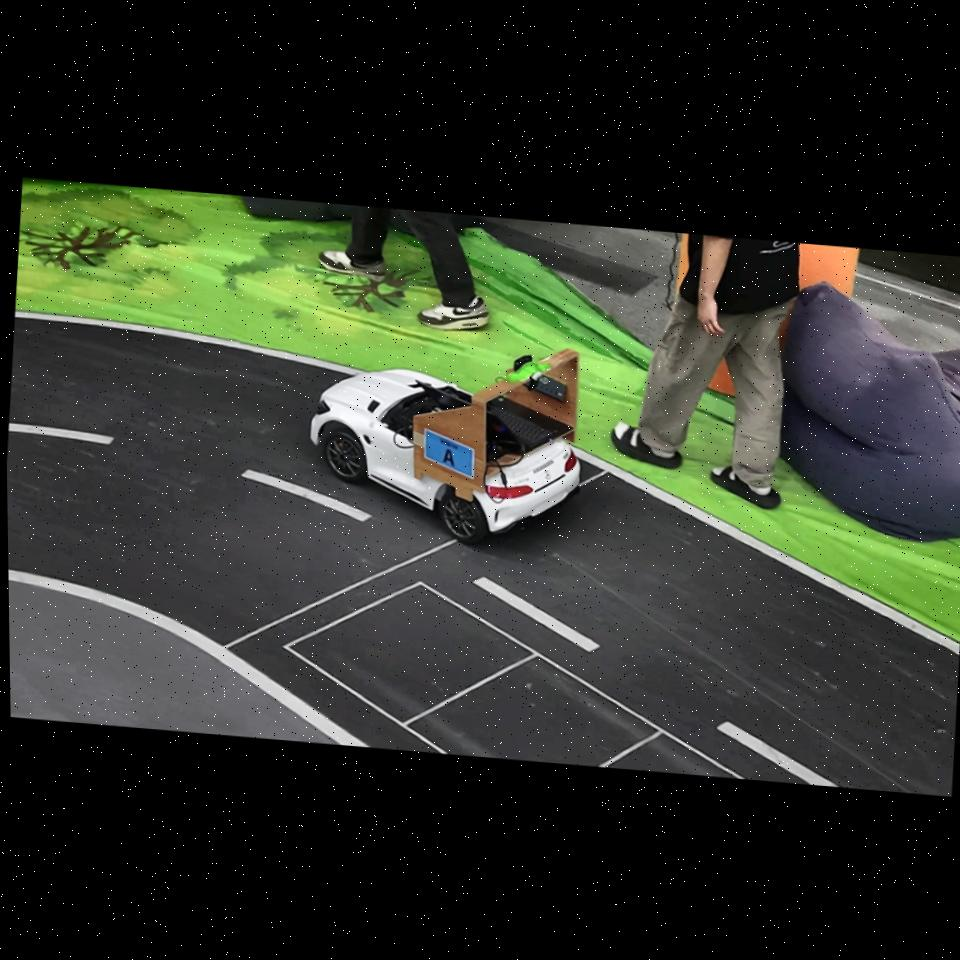broken_line: (473, 577, 600, 653), (717, 722, 840, 787), (241, 469, 372, 522), (9, 423, 114, 445)
